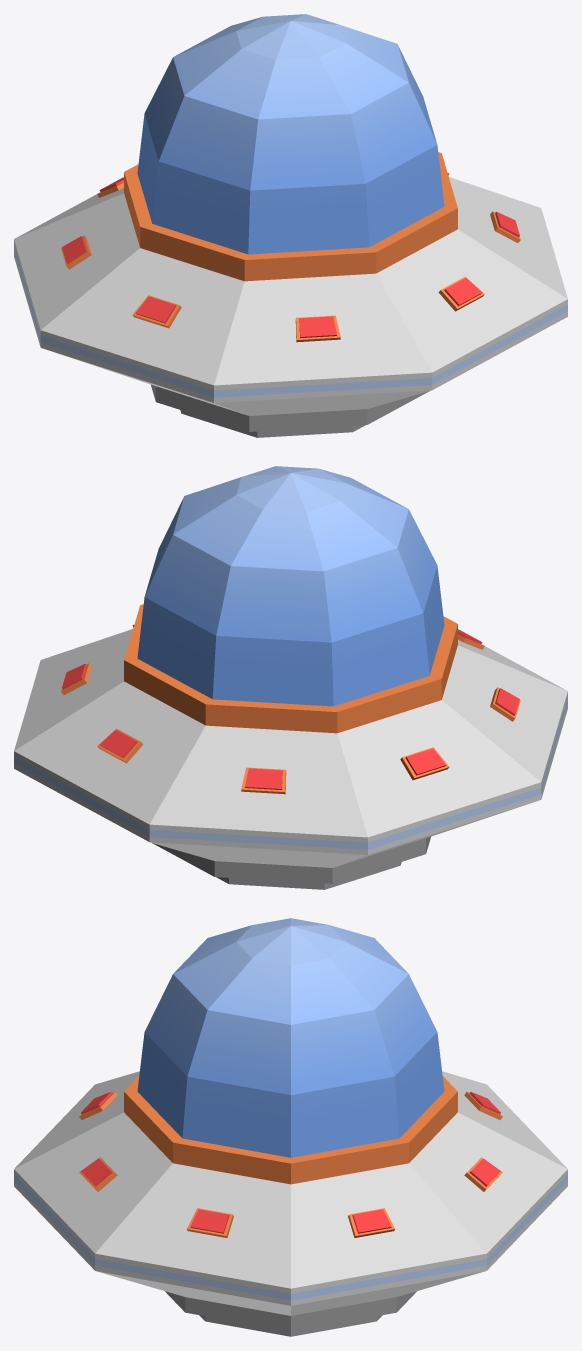
The model's file is UFO.fbx.
The picture shows the model from 3 angles, top to bottom: view 1: azimuth 30°, elevation 25°; view 2: azimuth 150°, elevation 25°; view 3: azimuth 270°, elevation 25°; orthographic projection. The views are drawn at different scales.
Parts seen in each view (by area): view 1: UFO; view 2: UFO; view 3: UFO.
Part boxes in pixels (x1,y1,x2,y2): UFO: [14, 14, 567, 437]; UFO: [14, 466, 567, 889]; UFO: [14, 918, 567, 1336].
Bounding box in the file's own units: 1.83 × 1.28 × 1.79.
1 material, 1 textured.
